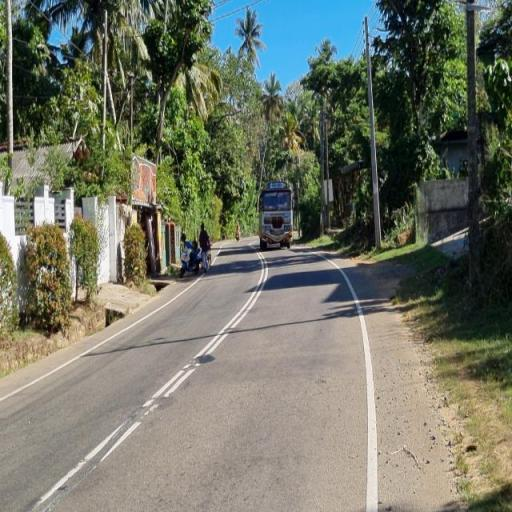double_white_line: (142, 254, 268, 416)
